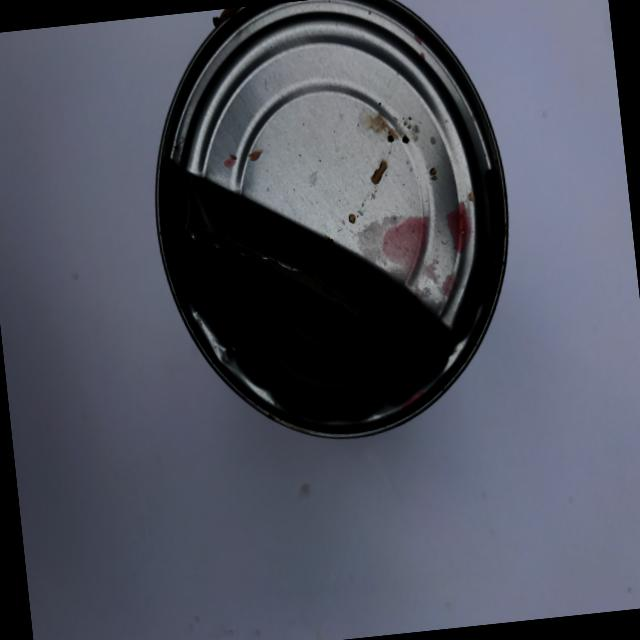Metal: (123, 0, 542, 469)
